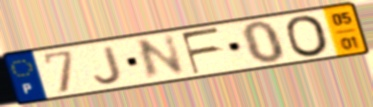0: (237, 19, 288, 65)
7: (40, 48, 78, 95)
F: (179, 25, 223, 76)
J: (92, 44, 124, 86)
N: (134, 32, 189, 83)
O: (283, 13, 333, 58)
